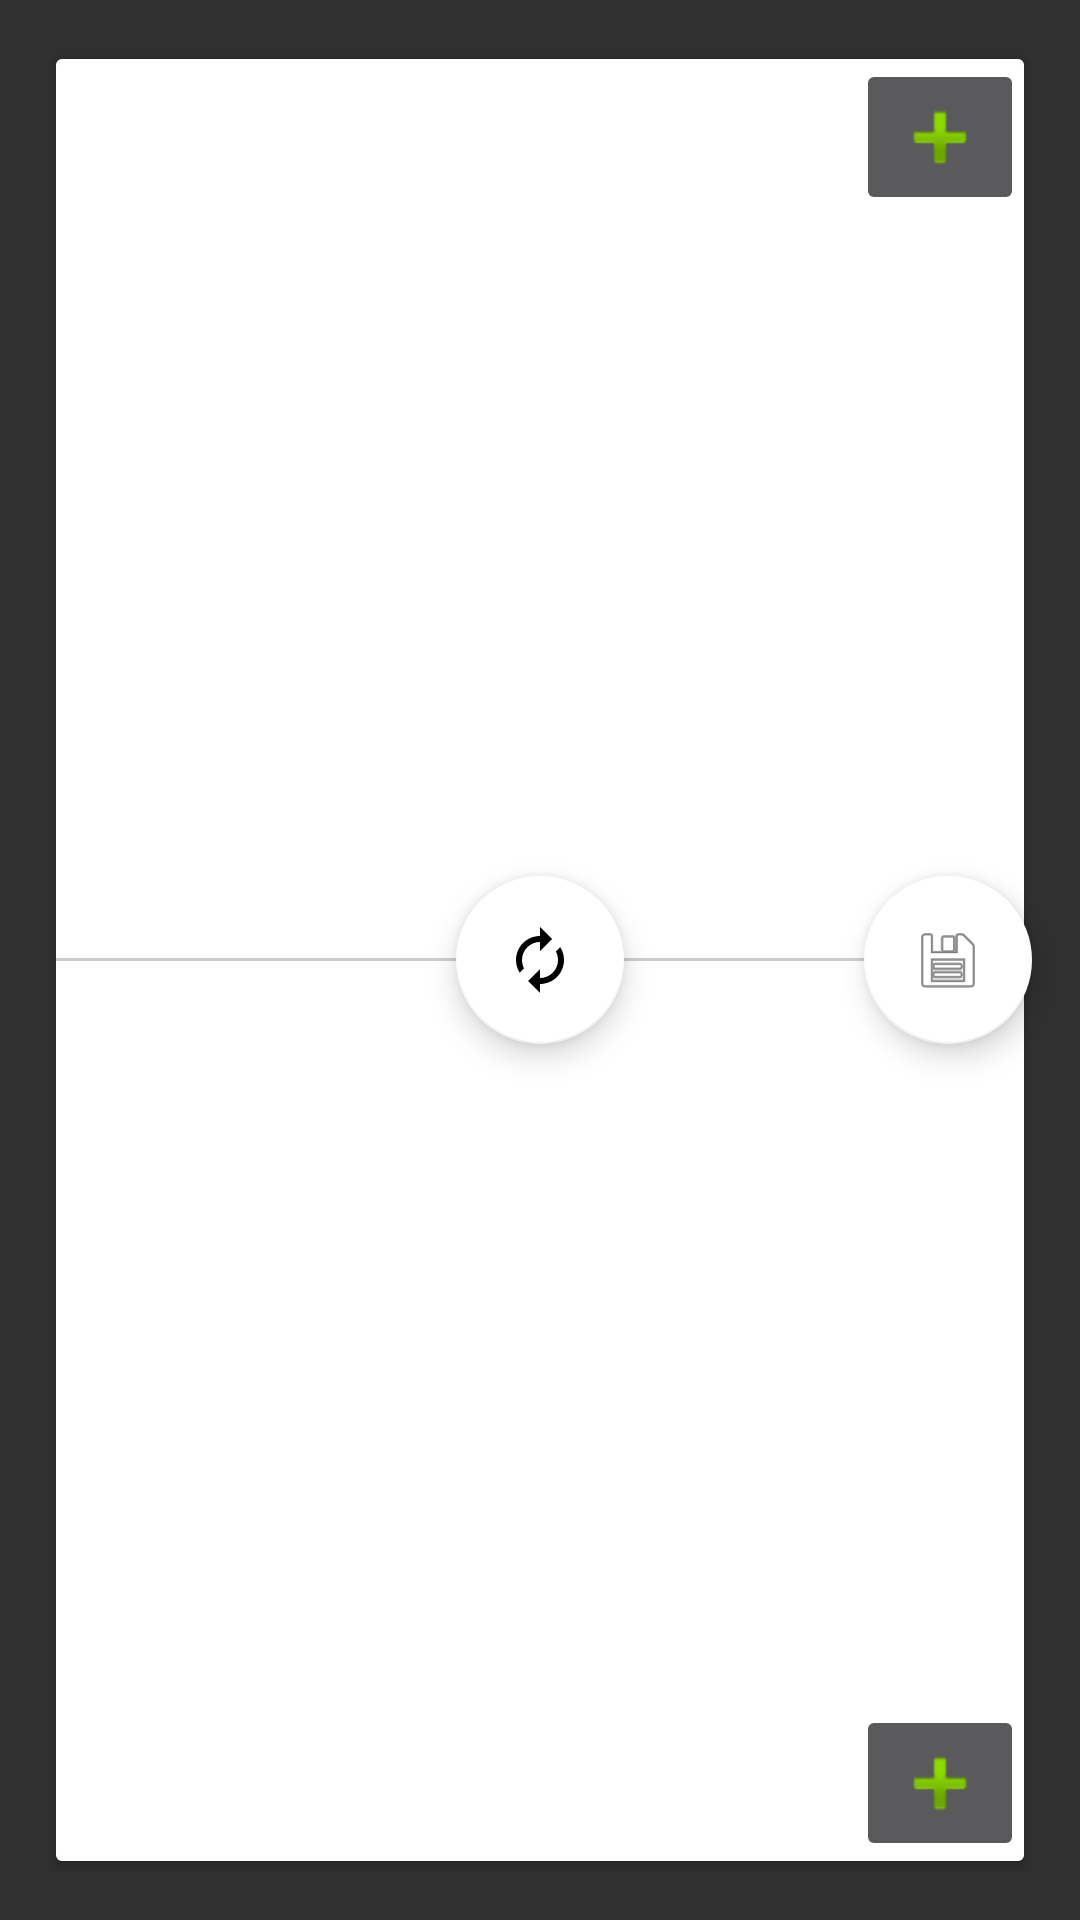

Where to tap for icons on this 1080×1920 app screen, as (x=x, y=y):
renew: (x=540, y=960)
